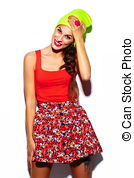face: (49, 15, 79, 62)
